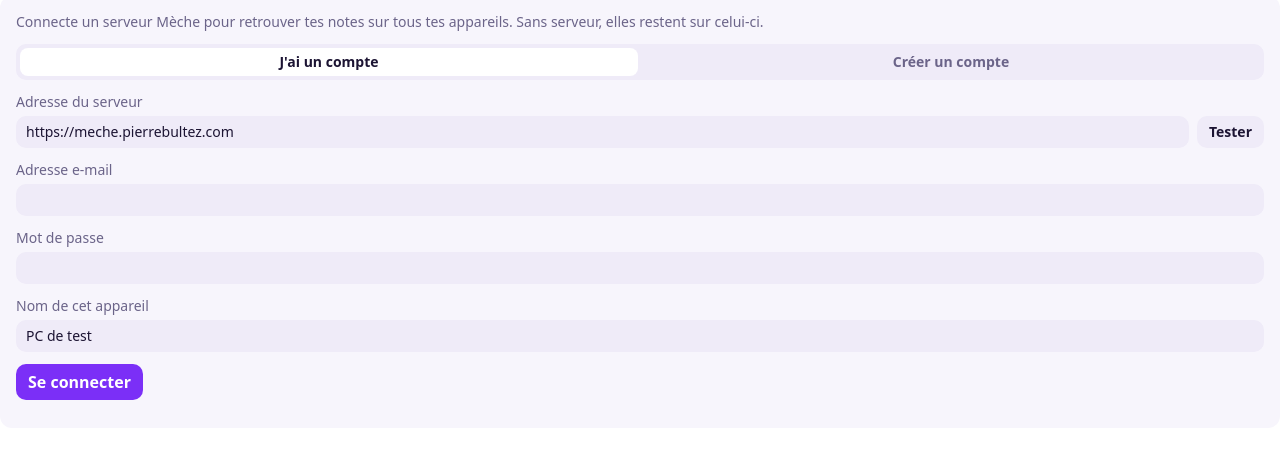
Test: server settings › tests the address of the server
Step 1. Click the button "Tester" → [1230, 132], box [1197,116,1264,148]
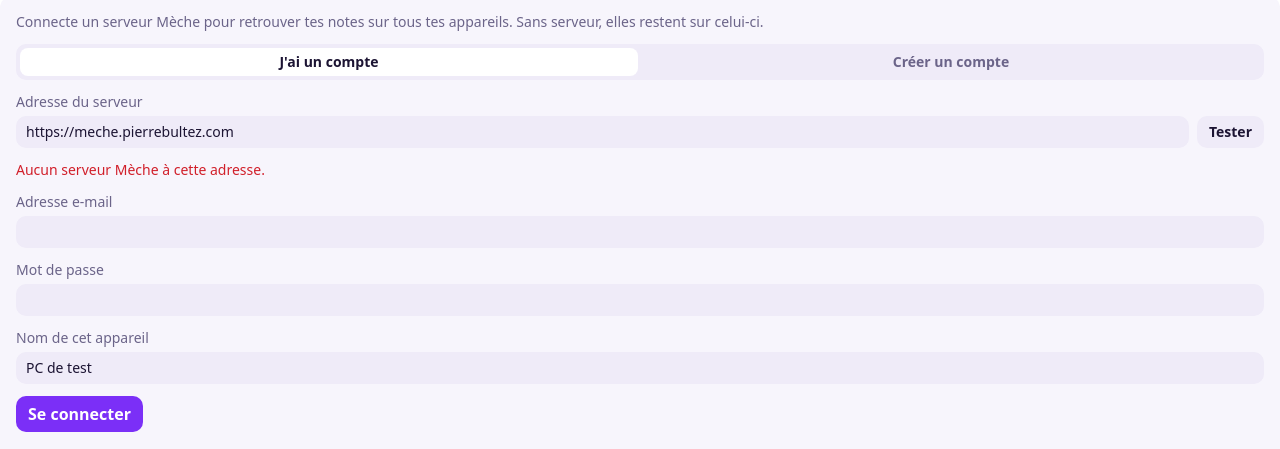
Check: the text "Aucun serveur Mèche à cette adresse." is shown, box [16,160,265,179]
